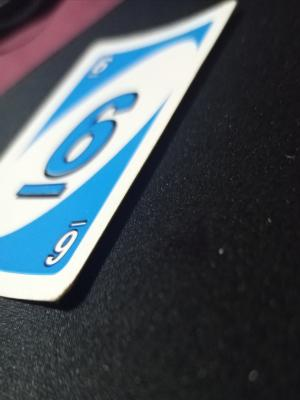num_6: (44, 215, 82, 273)
